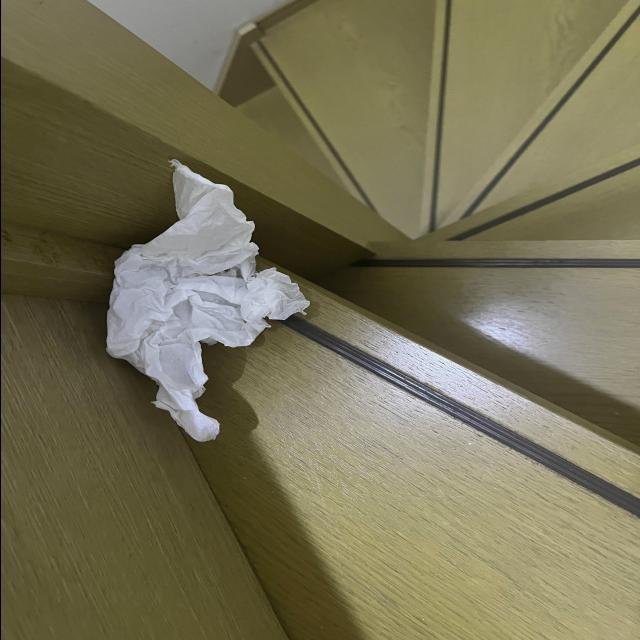Paper: (88, 172, 296, 406)
